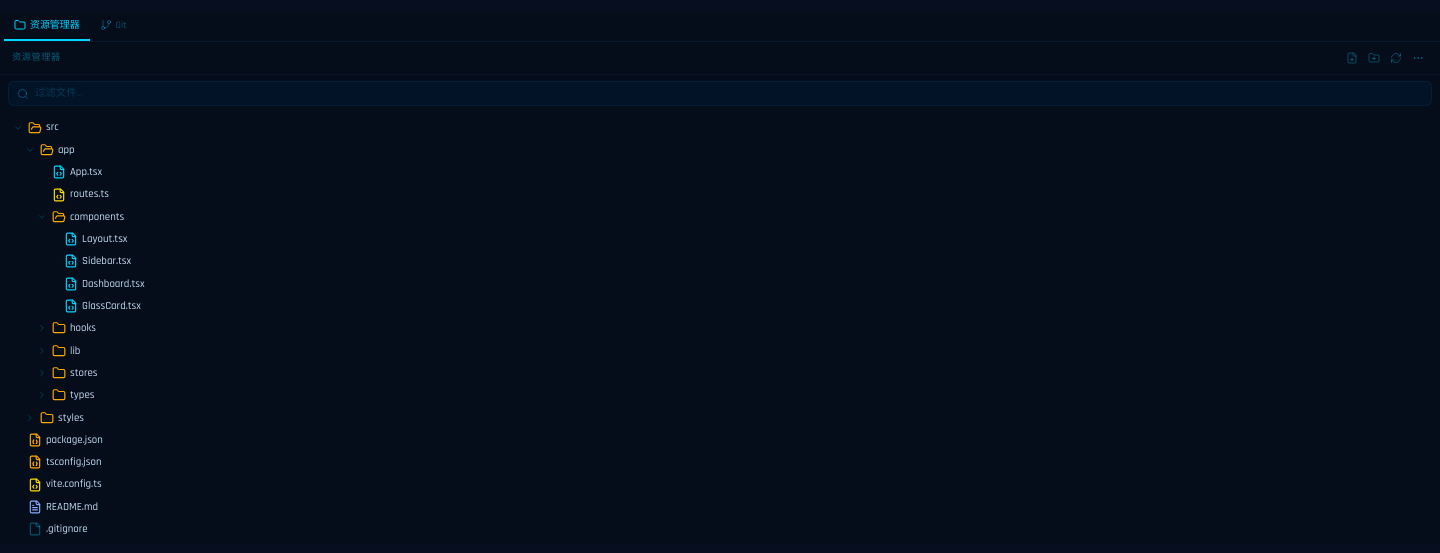
Test: FileExplorer › 搜索过滤 › 按文件名过滤且保留匹配祖先
In the field with placeholder "过滤文件...": (729, 94) left=35, top=86, right=1423, bottom=102, type "package"
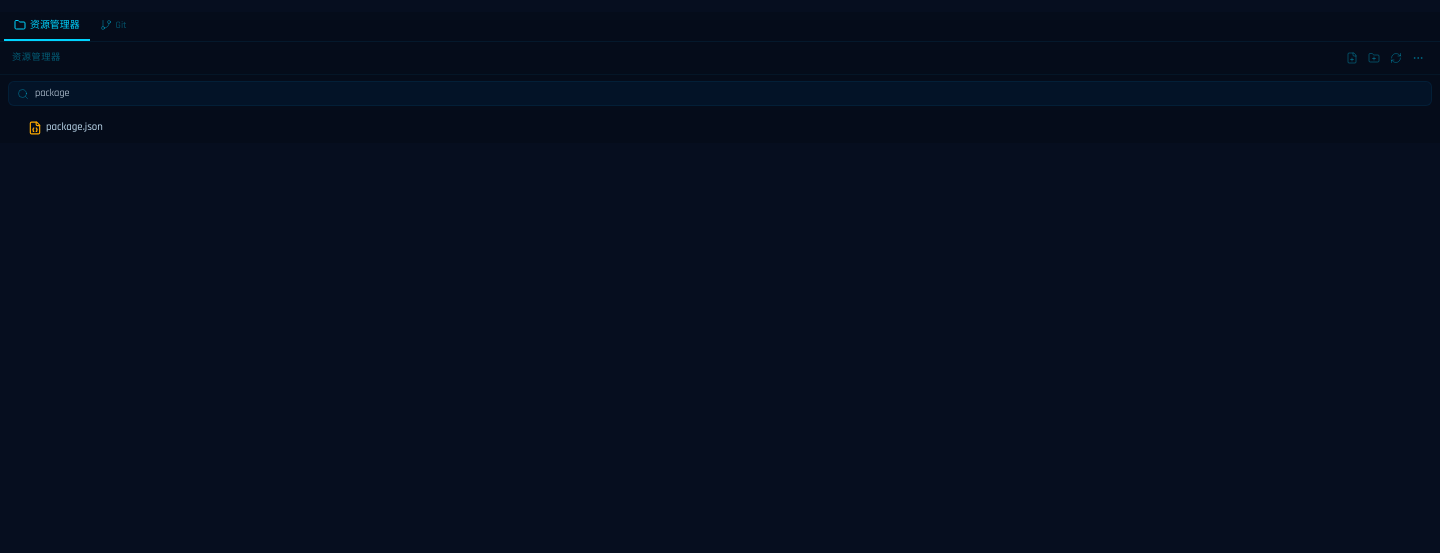
Check: the text "package.json" is shown, box left=46, top=120, right=103, bottom=134
Check: the button "App.tsx" is gone
